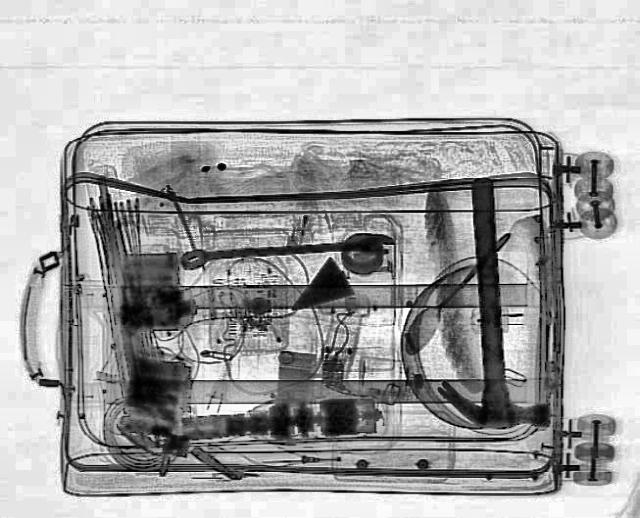Wrench: (176, 232, 396, 270)
